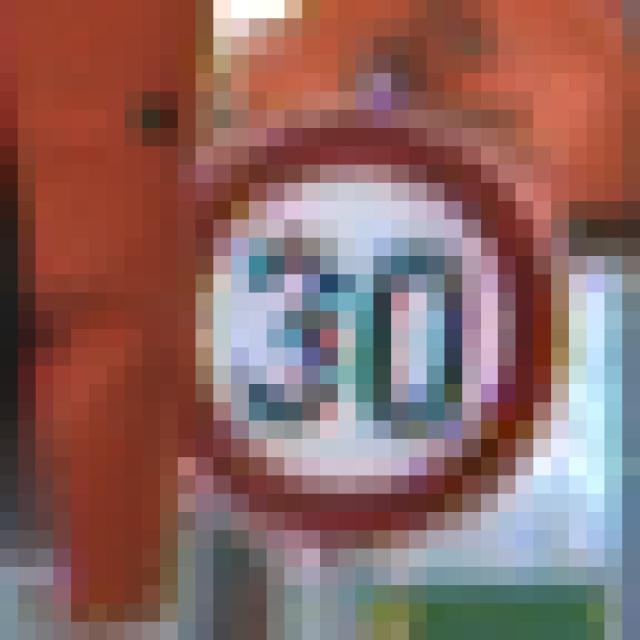Speed Limit -30-: (98, 82, 524, 521)
